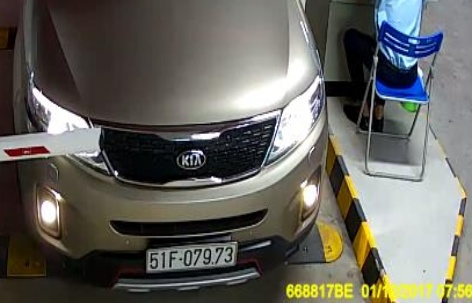plate: (146, 245, 238, 271)
